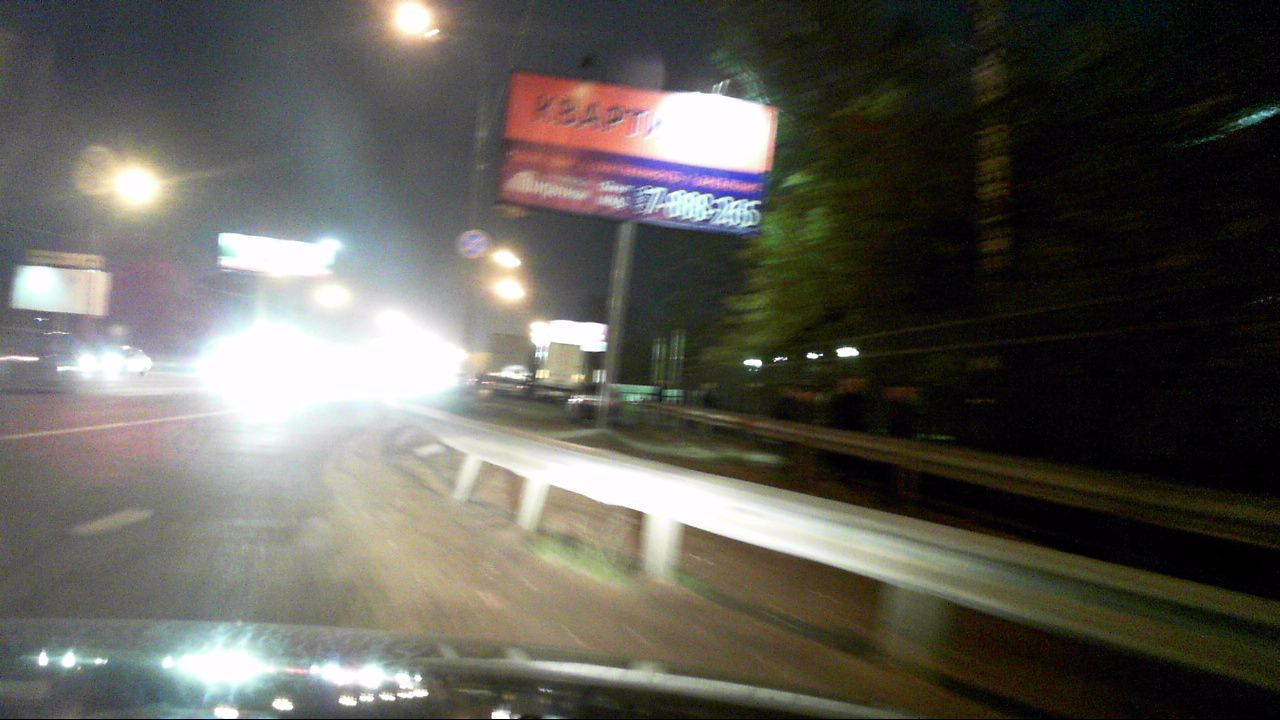No Parking: (457, 229, 487, 260)
